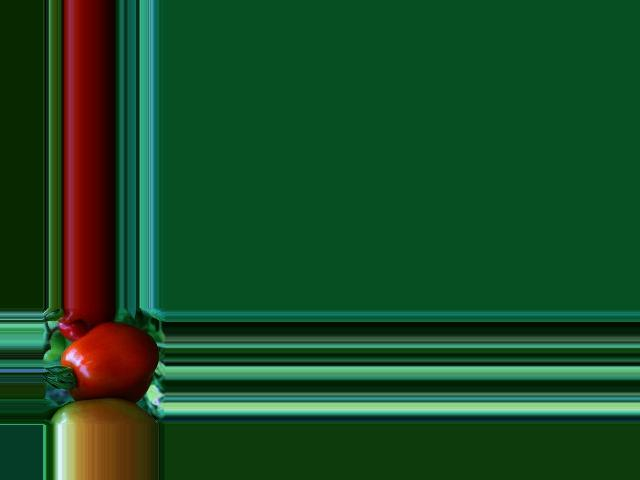tomato: (60, 322, 158, 399)
